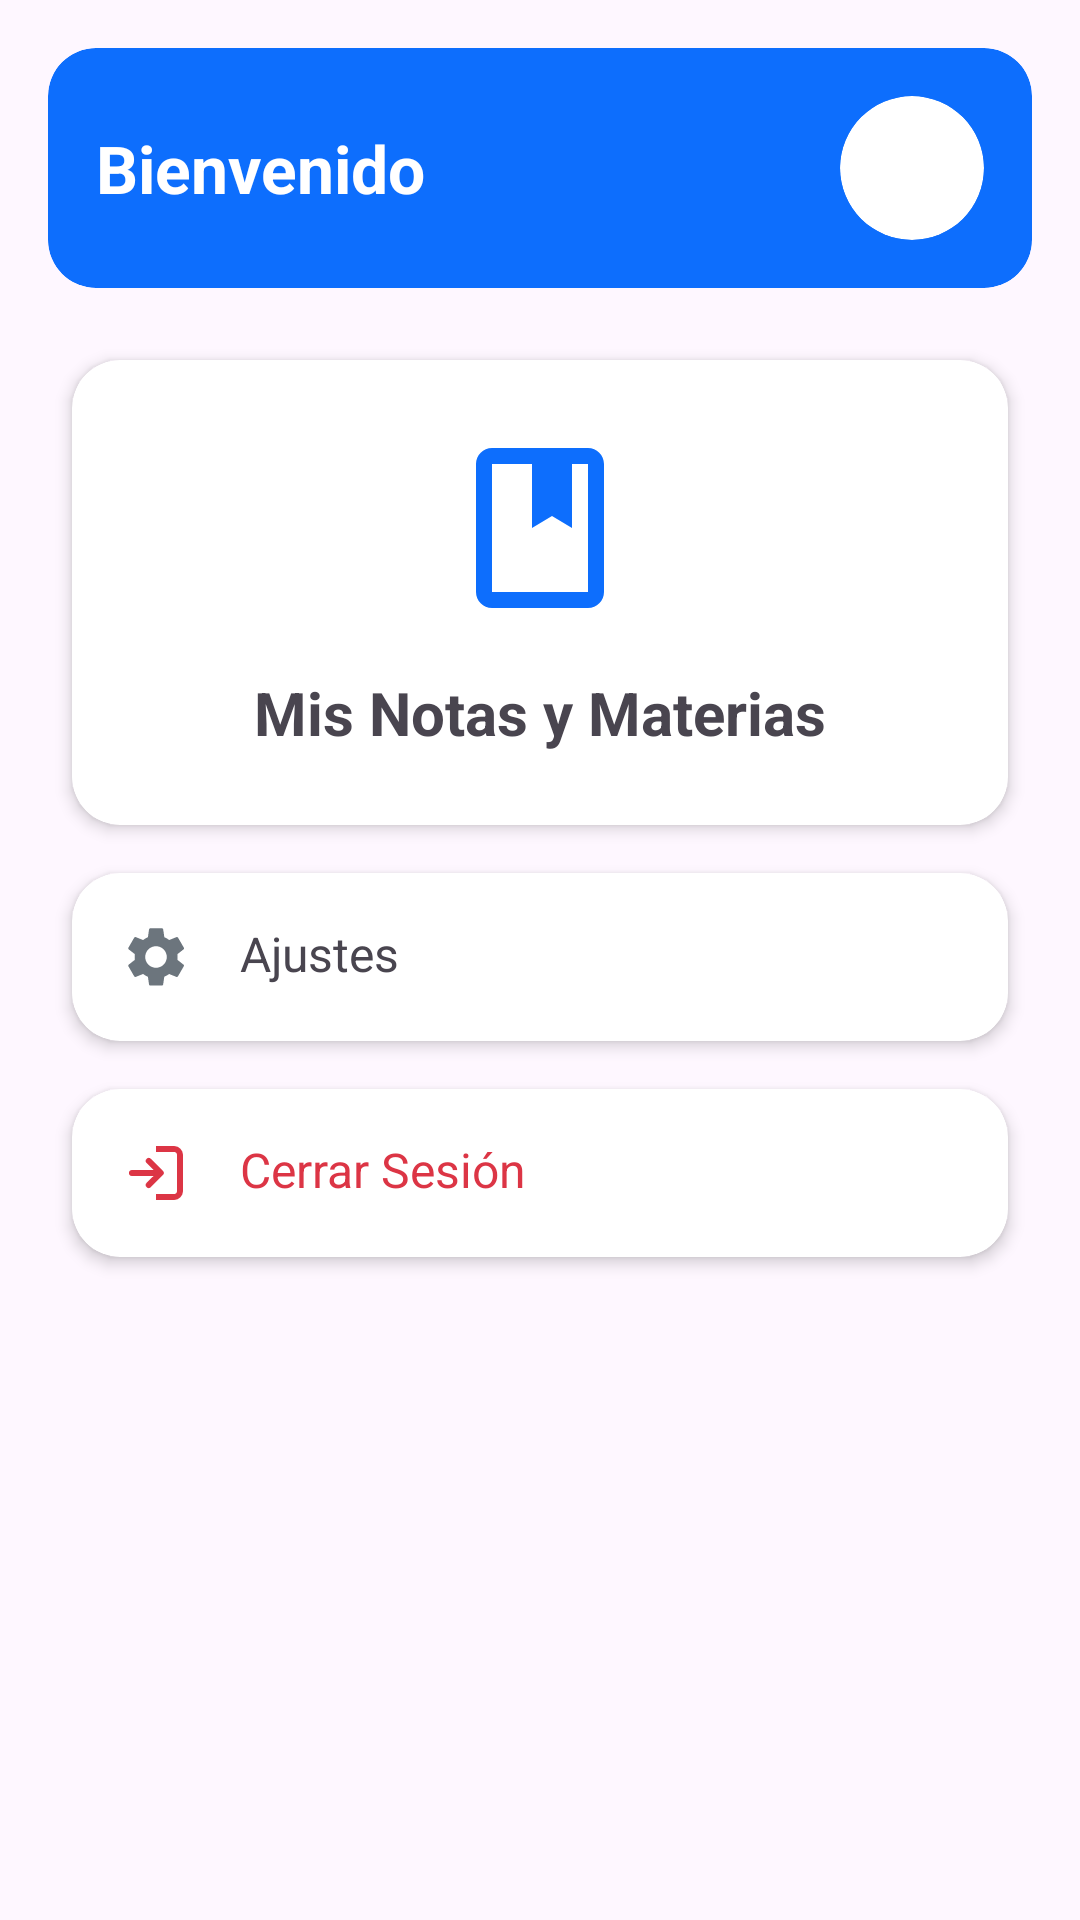

Named icons in this screenshot (1080*1920) and their centers, (x=x, y=y):
book: (x=540, y=528)
login: (x=156, y=1173)
settings: (x=156, y=957)
